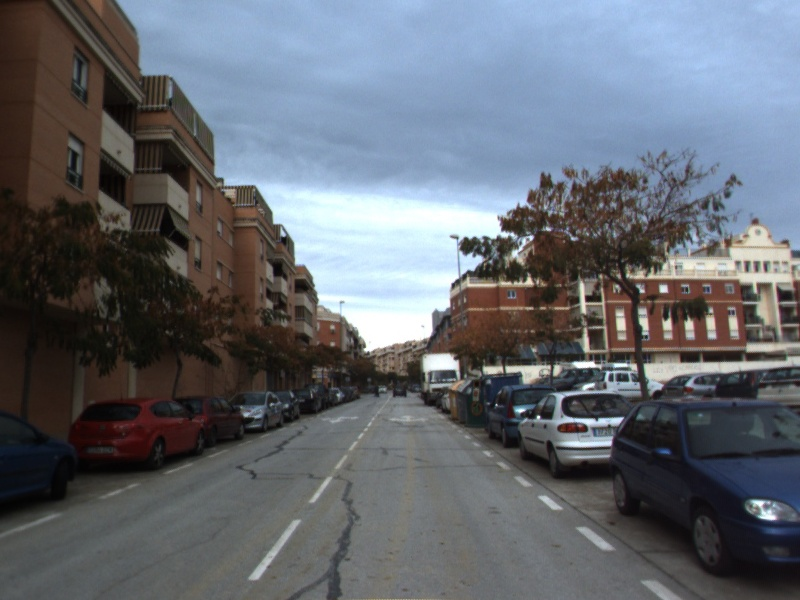STRAIGHT_LEFT_RIGHT: (386, 413, 431, 424)
